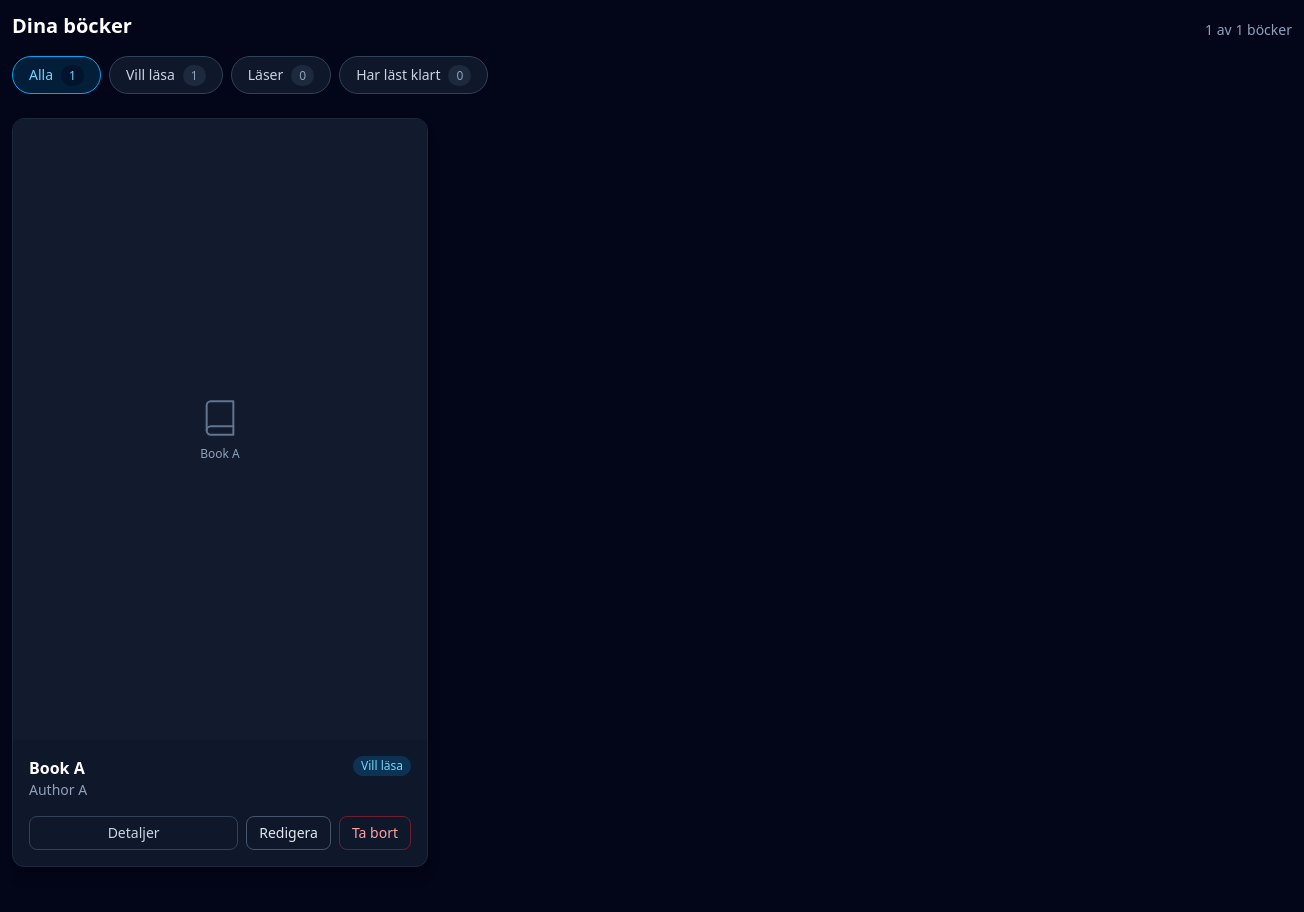
Test: BookList status tabs › shows an empty-state message for tabs without books
Check: the heading "Book A" is shown, box 29,756 -> 87,780
Click the tab "Läser0" at coordinates (281, 75), box 231,56 -> 331,94
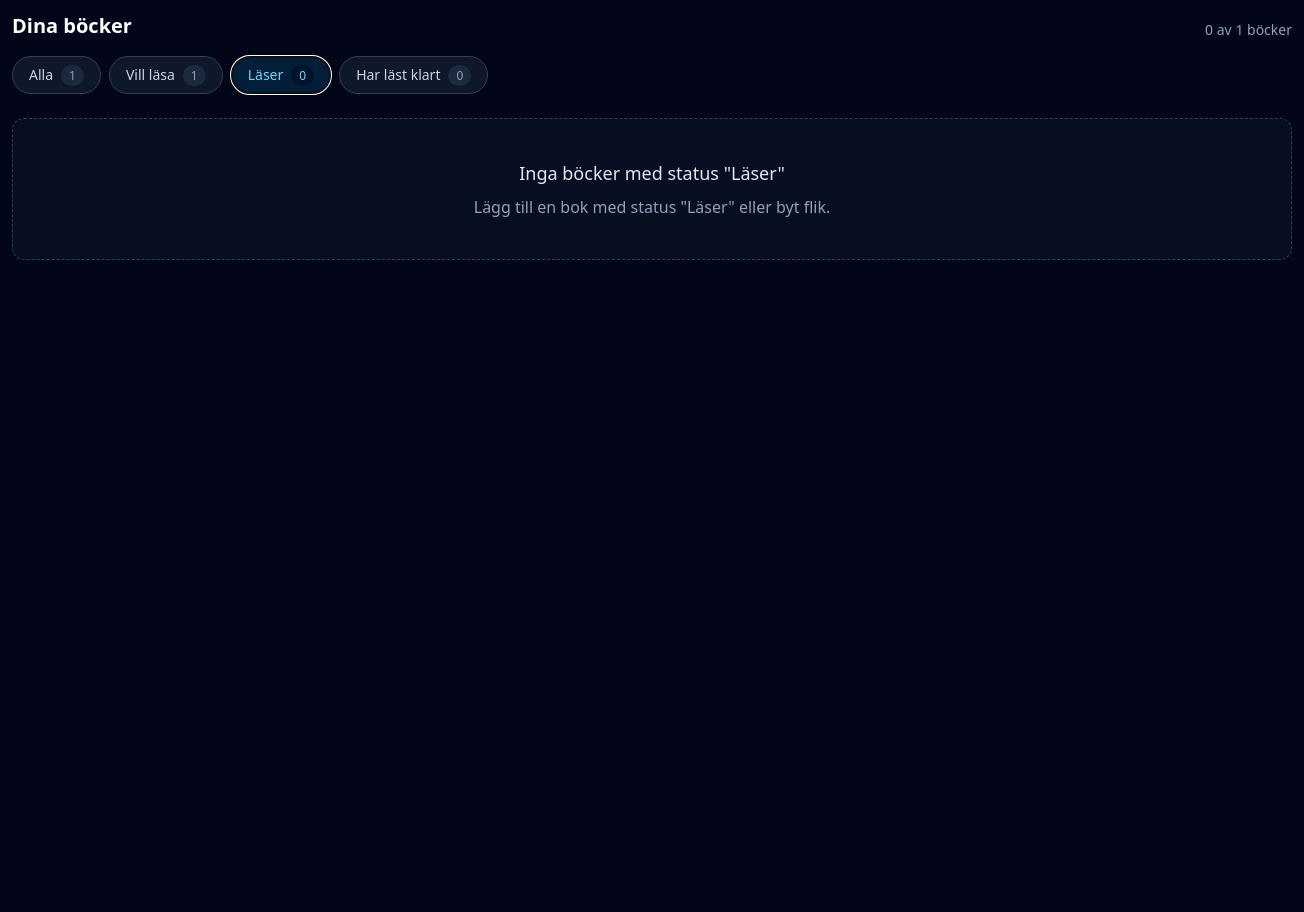
Check: the text "Inga böcker med status \"Läser\"" is shown, box 519,161 -> 785,185
